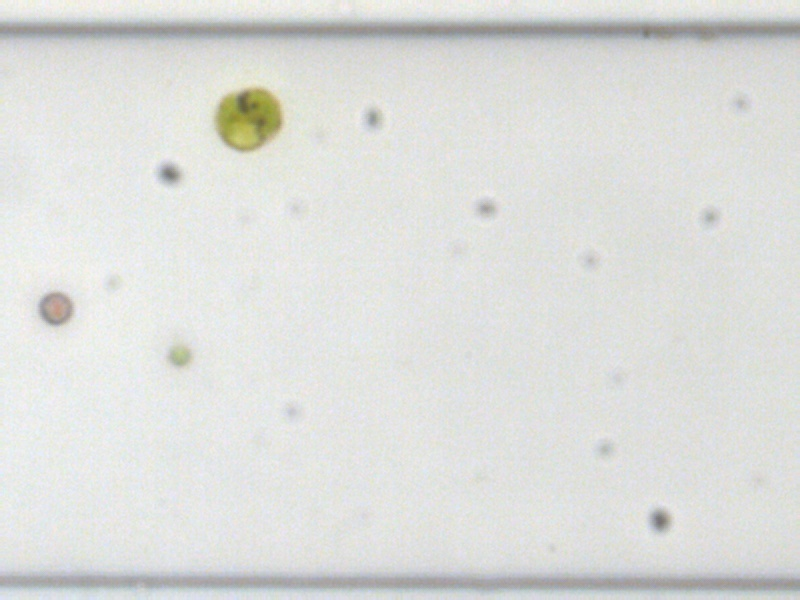Chlorella: (166, 343, 189, 366)
Haematococcus: (210, 83, 287, 157)
Porphyridium: (34, 289, 73, 326)
